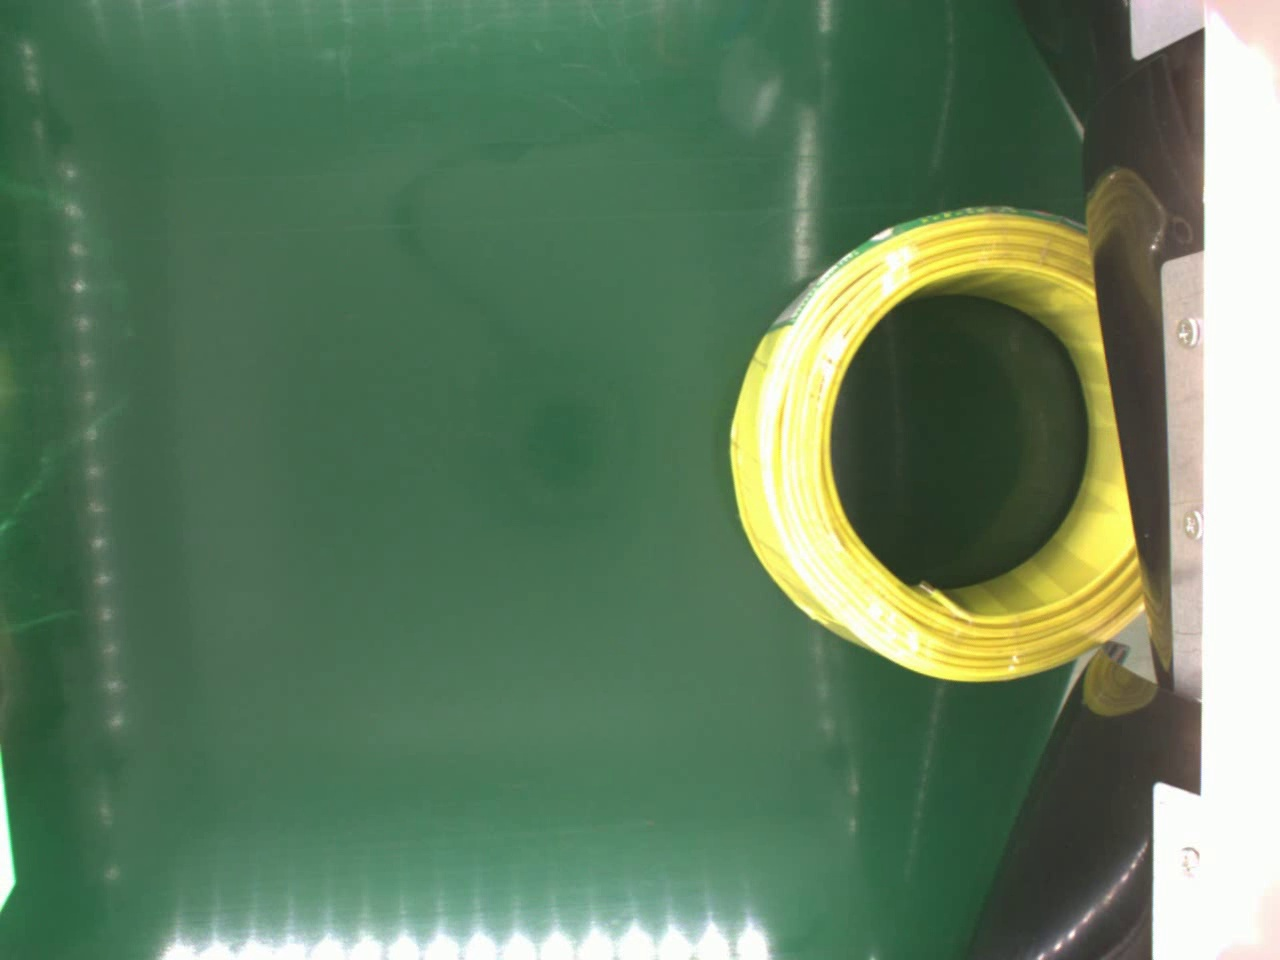yellow: (727, 197, 1150, 679)
